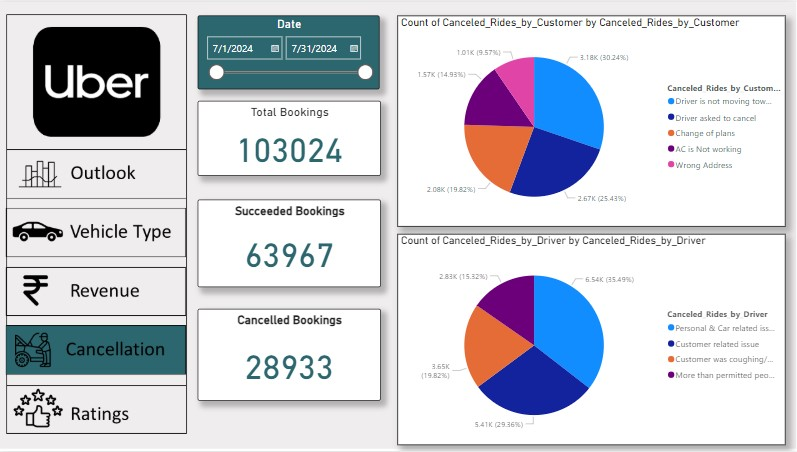

What the dashboard file says about the page in this screenshot:
{"tool":"powerbi","page":{"name":"Cancellations","canvas":[1280,720],"ordinal":3},"visuals":[{"type":"actionButton","box":[13.7,333.1,286,80.6],"z":0},{"type":"actionButton","box":[13.7,427.4,286,80.6],"z":1000},{"type":"actionButton","box":[15.2,614.5,286,80.6],"z":2000},{"type":"actionButton","box":[15.2,237.3,286,80.6],"z":3000},{"type":"slicer","title":"Date","fields":{"Values":["Bookings-100000-Rows - July.Date"]},"box":[320,21.8,291.8,118.2],"z":4000},{"type":"pieChart","fields":{"Category":["Bookings-100000-Rows - July.Canceled_Rides_by_Customer"],"Y":["CountNonNull(Bookings-100000-Rows - July.Canceled_Rides_by_Customer)"]},"box":[640,21.7,621.7,338.3],"z":5000},{"type":"pieChart","fields":{"Category":["Bookings-100000-Rows - July.Canceled_Rides_by_Driver"],"Y":["CountNonNull(Bookings-100000-Rows - July.Canceled_Rides_by_Driver)"]},"box":[640,371.7,621.6,338.3],"z":6000},{"type":"card","title":"Total Bookings","fields":{"Values":["Bookings-100000-Rows - July.Total Bookings"]},"box":[320,158.3,293.3,120],"z":7000},{"type":"card","title":"Succeeded Bookings","fields":{"Values":["CountNonNull(Bookings-100000-Rows - July.Booking_ID)"]},"box":[320,316.7,293.3,140],"z":8000},{"type":"card","title":"Cancelled Bookings","fields":{"Values":["CountNonNull(Bookings-100000-Rows - July.Booking_ID)"]},"box":[320,491.7,293.3,146.7],"z":10000}]}

Visuals, with their boxes in screenshot pixels (x1, y1, x2, y2), scaled from the page's 1280x720 canvas onto the 797x452 screenshot:
actionButton: BBox(9, 209, 187, 260)
actionButton: BBox(9, 268, 187, 319)
actionButton: BBox(9, 386, 188, 436)
actionButton: BBox(9, 149, 188, 200)
"Date" slicer: BBox(199, 14, 381, 88)
pieChart - Bookings-100000-Rows - July.Canceled_Rides_by_Customer x CountNonNull(Bookings-100000-Rows - July.Canceled_Rides_by_Customer): BBox(398, 14, 786, 226)
pieChart - Bookings-100000-Rows - July.Canceled_Rides_by_Driver x CountNonNull(Bookings-100000-Rows - July.Canceled_Rides_by_Driver): BBox(398, 233, 786, 446)
"Total Bookings" card: BBox(199, 99, 382, 175)
"Succeeded Bookings" card: BBox(199, 199, 382, 287)
"Cancelled Bookings" card: BBox(199, 309, 382, 401)
